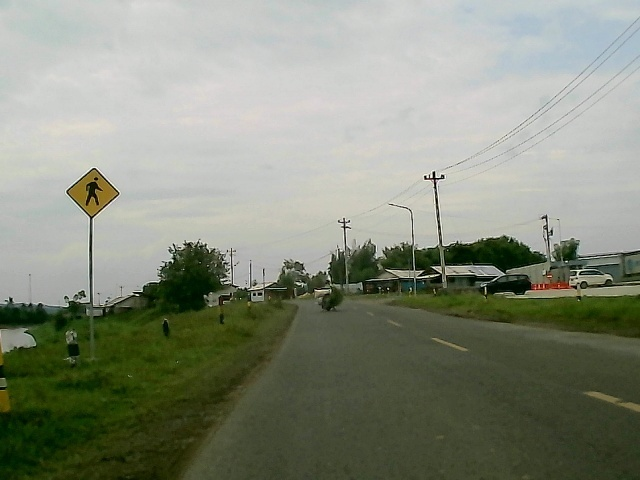Peringatan orang menyeberang: (64, 166, 121, 219)
